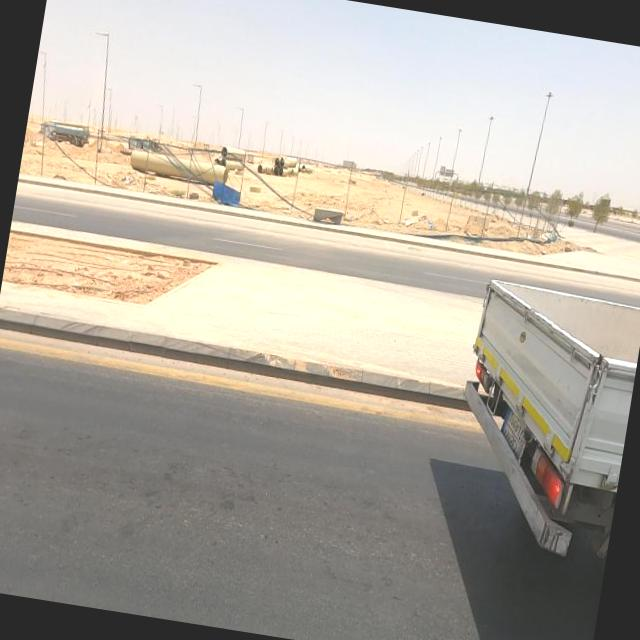debris: (479, 188, 590, 314), (177, 144, 272, 234), (378, 185, 437, 252), (404, 192, 454, 256)
